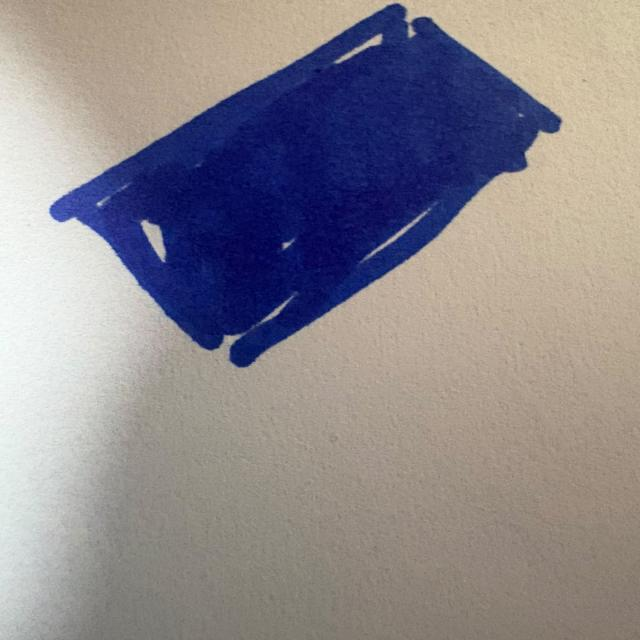Rectangle: (51, 4, 561, 366)
